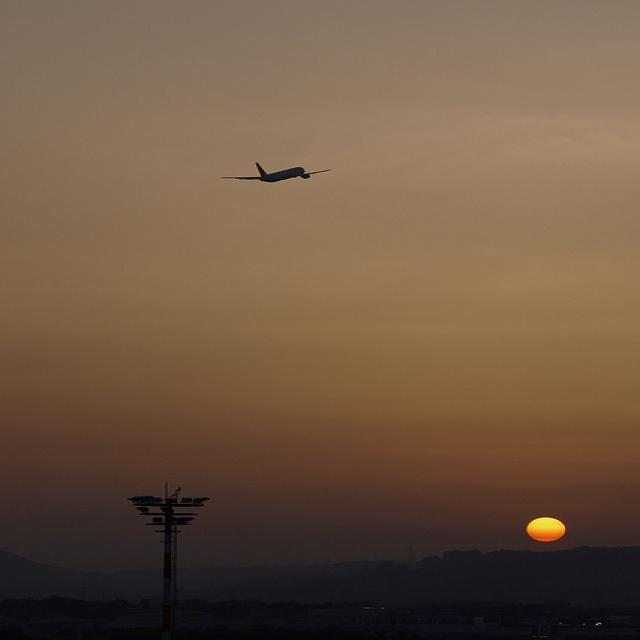airplane: (218, 160, 335, 184)
